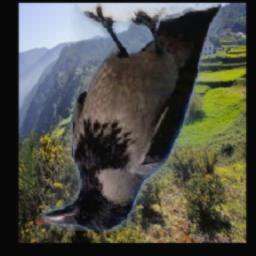Crow: (42, 4, 221, 231)
